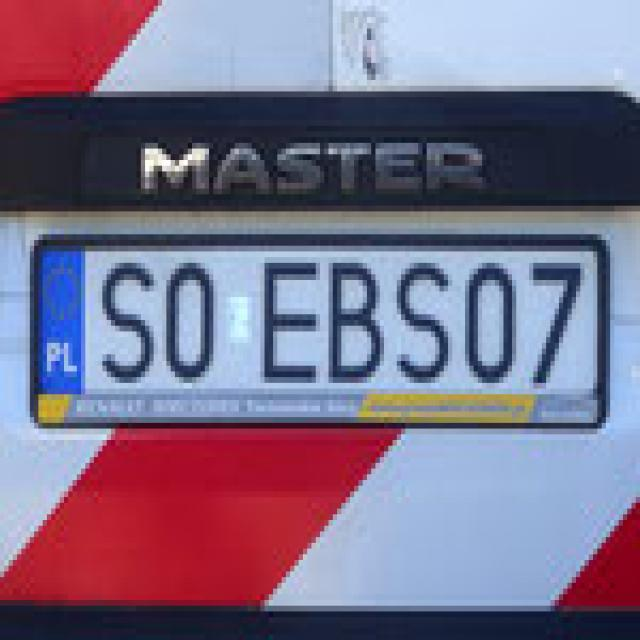pl_license_plate: (30, 234, 601, 389)
